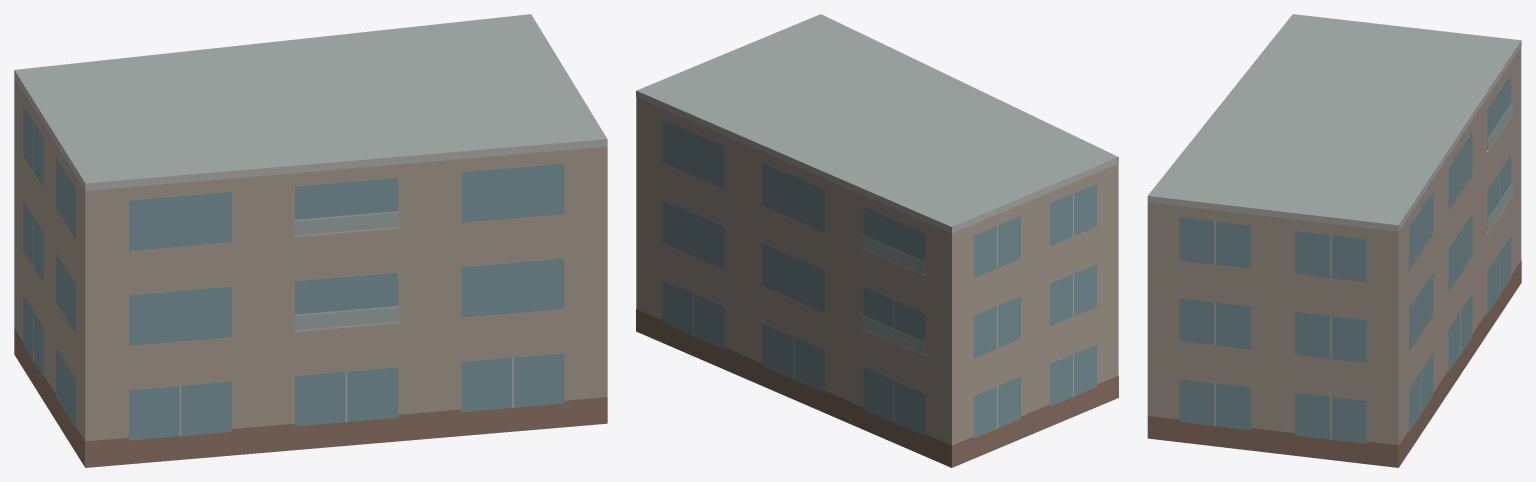
File: survey-upis-32929421.glb
The picture shows the model from 3 angles, left to right: view 1: azimuth 30°, elevation 25°; view 2: azimuth 150°, elevation 25°; view 3: azimuth 270°, elevation 25°; orthographic projection. The views are drawn at different scales.
Visible parts, largest first — view 1: survey-upis-32929421.tmp; view 2: survey-upis-32929421.tmp; view 3: survey-upis-32929421.tmp.
Part boxes in pixels (bbox=[...]): survey-upis-32929421.tmp: bbox=[14, 14, 607, 467]; survey-upis-32929421.tmp: bbox=[636, 14, 1118, 467]; survey-upis-32929421.tmp: bbox=[1147, 14, 1521, 467].
Size of the model in its own units: 17.11 by 9.15 by 12.79.
